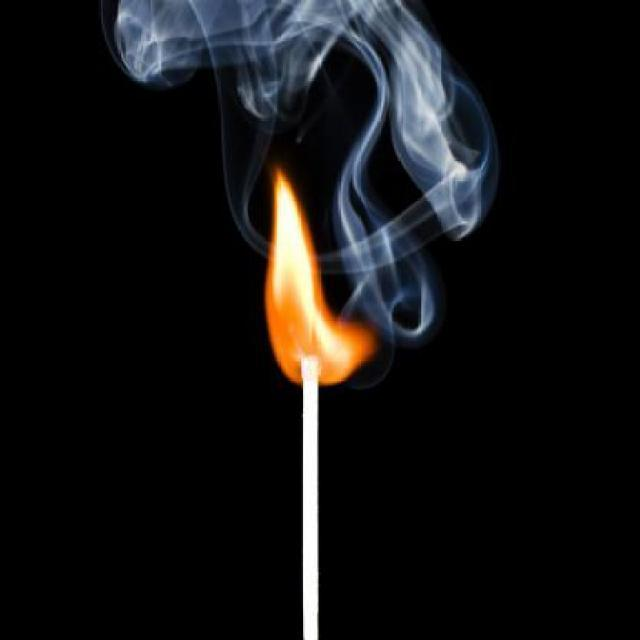Fire: (248, 180, 380, 413)
Smoke: (117, 0, 502, 342)
